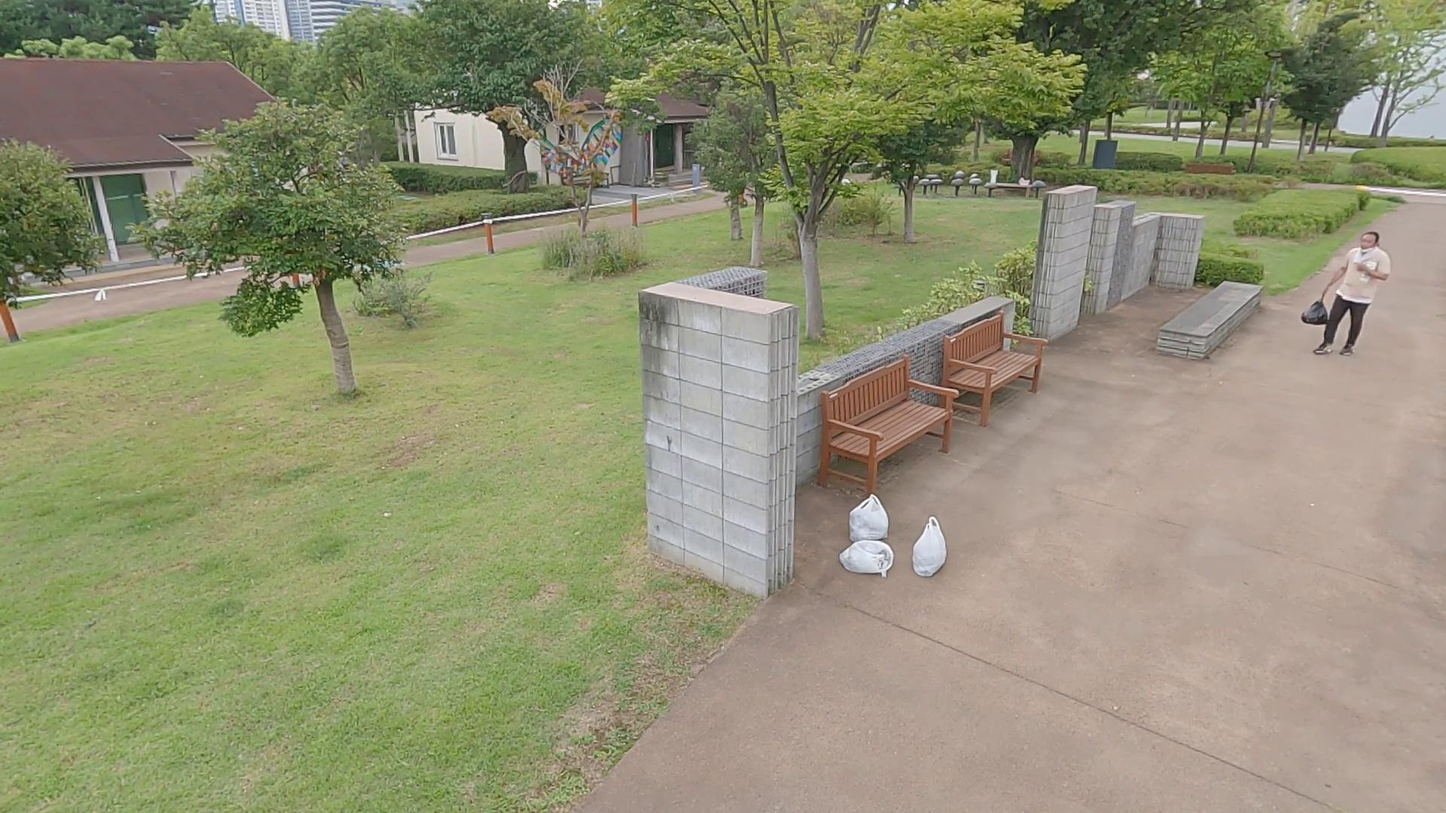person: (1313, 228, 1393, 358)
trash: (846, 493, 893, 548), (837, 537, 897, 580), (912, 517, 948, 581), (1303, 297, 1329, 327)
